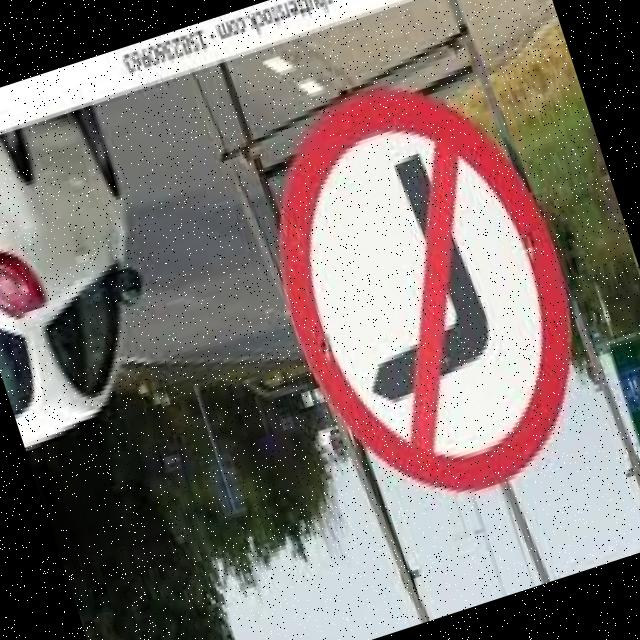do_not_turn_right: (215, 35, 636, 548)
